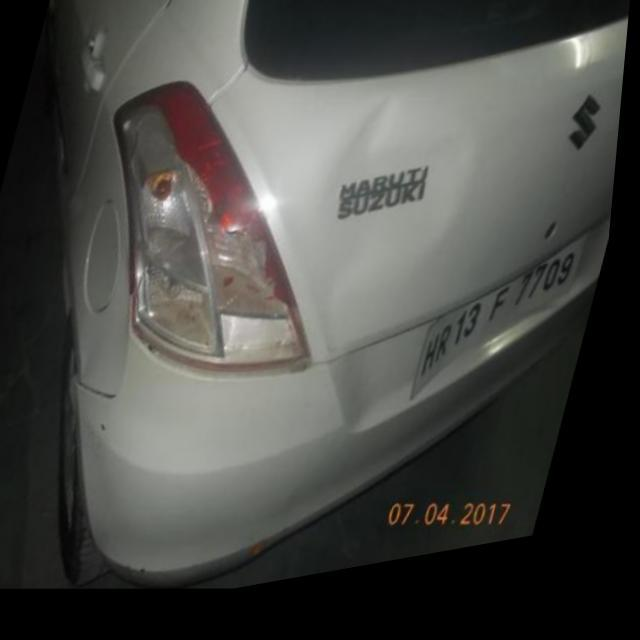dent: (311, 107, 475, 309)
lamp broken: (117, 90, 317, 382)
